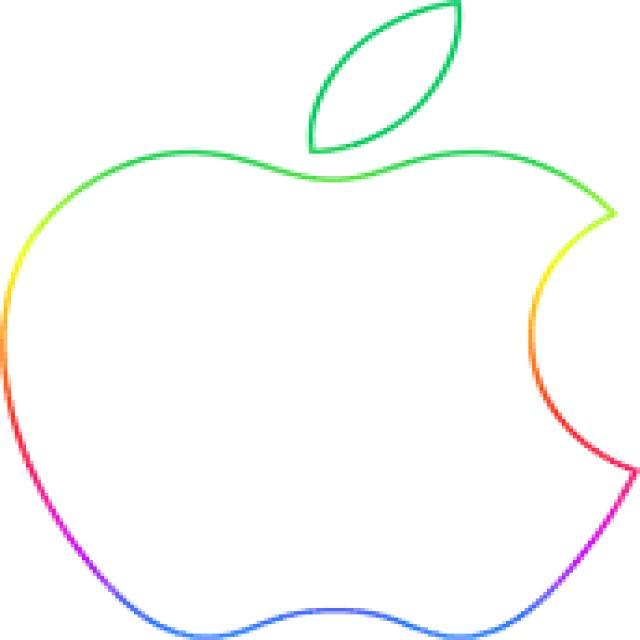apple: (2, 2, 636, 640)
